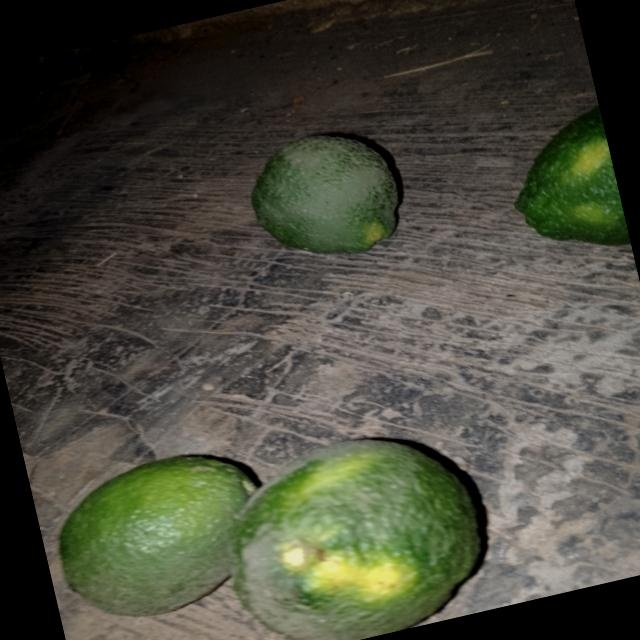agrume: (201, 405, 505, 640), (35, 435, 274, 640), (221, 109, 427, 303), (491, 100, 626, 284)
